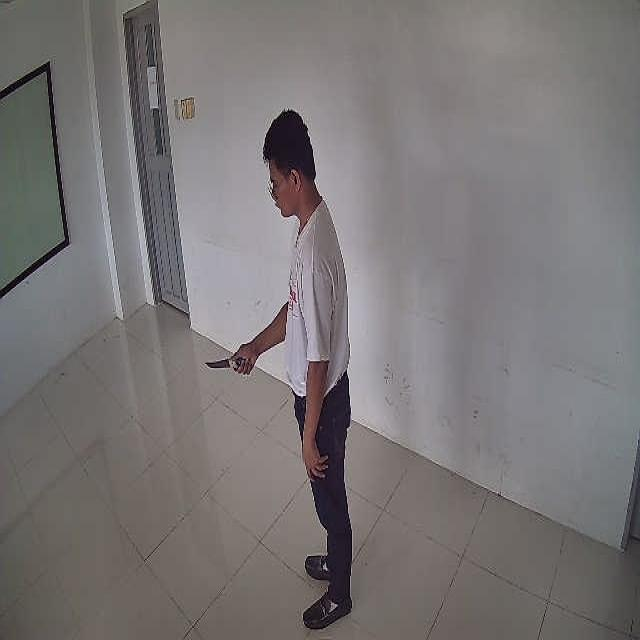knife: (205, 358, 247, 370)
